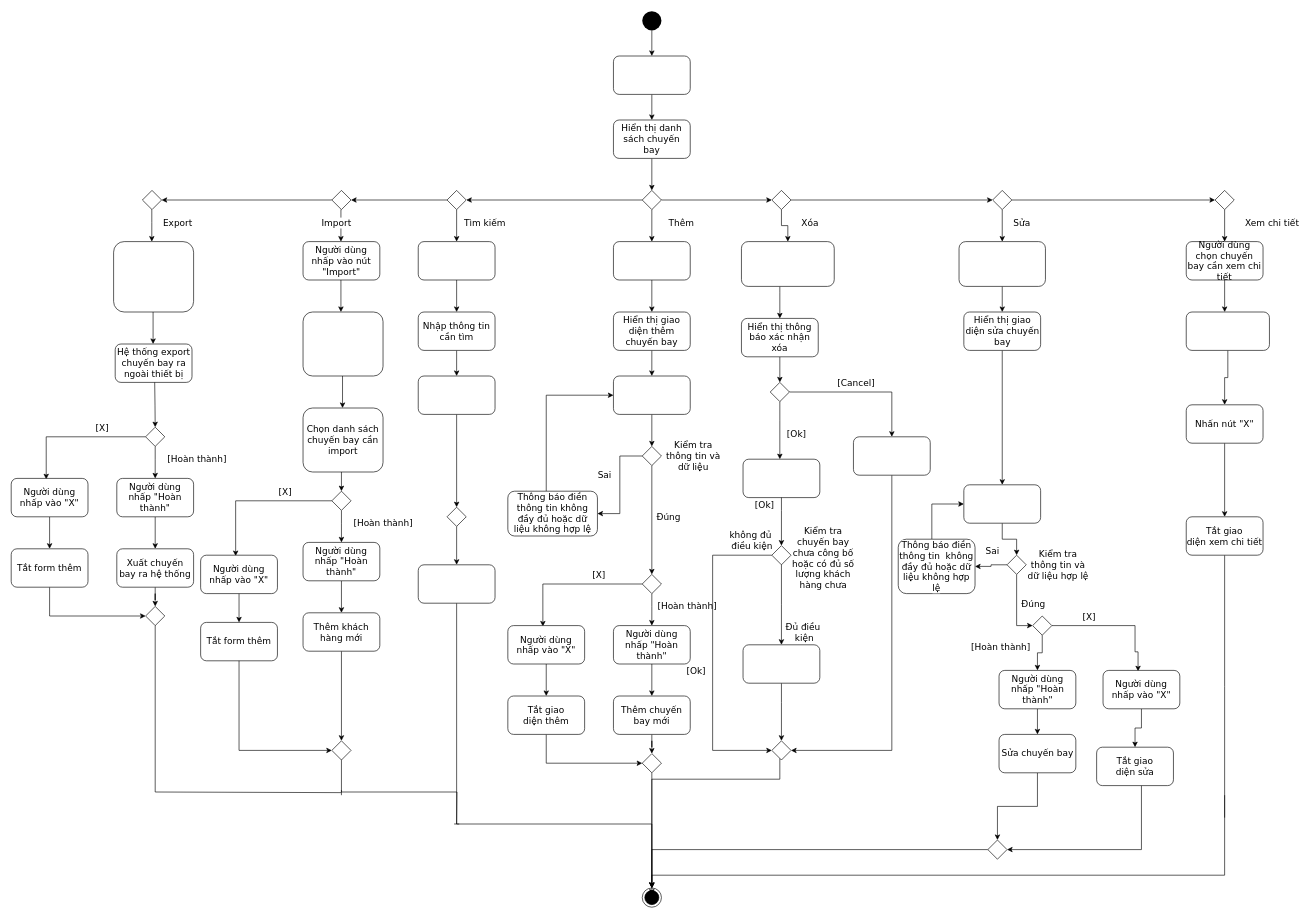
This 1310x918 diagram has some shape labels left out. Here are the shapes that lost their labels. From the top down, the centre of each, then its label:
point (651, 74): Nhấp vào chức năng "Quản lý Chuyến bay"
point (153, 276): Người dùng chọn 1 chuyến bay hoặc 1 danh sách chuyến bay để Export
point (456, 260): Chọn kiểu tìm kiếm
point (651, 260): Người dùng nhấp vào nút "Thêm"
point (787, 263): Người dùng chọn chuyến bay cần xóa và bấm nút "Xóa"
point (1001, 263): Người dùng chọn chuyến bay cần sửa và bấm nút "Sửa"
point (342, 343): Hiển thị form chọn file excel cần import từ thiết bị của mình
point (1227, 330): Hiển thị giao diện xem chi tiết chuyến bay
point (456, 394): Nhấn nút "Tìm kiếm"
point (651, 394): Điền đầy đủ thông tin
point (891, 455): Tắt thông báo xác nhận xóa
point (781, 478): Người dùng nhấp vào "Ok"
point (1002, 503): Điền đầy đủ thông tin cần sửa
point (456, 583): Hiển thị kết quả
point (781, 663): Xóa chức vụ
